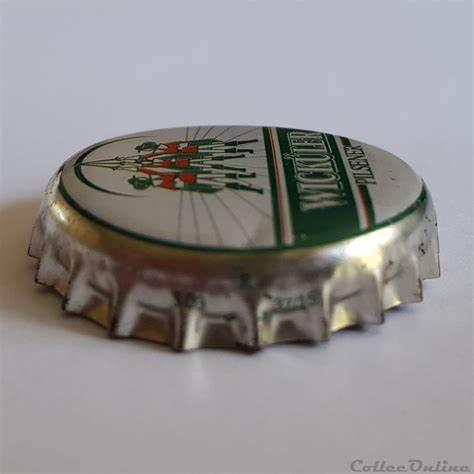metal: (28, 126, 441, 352)
